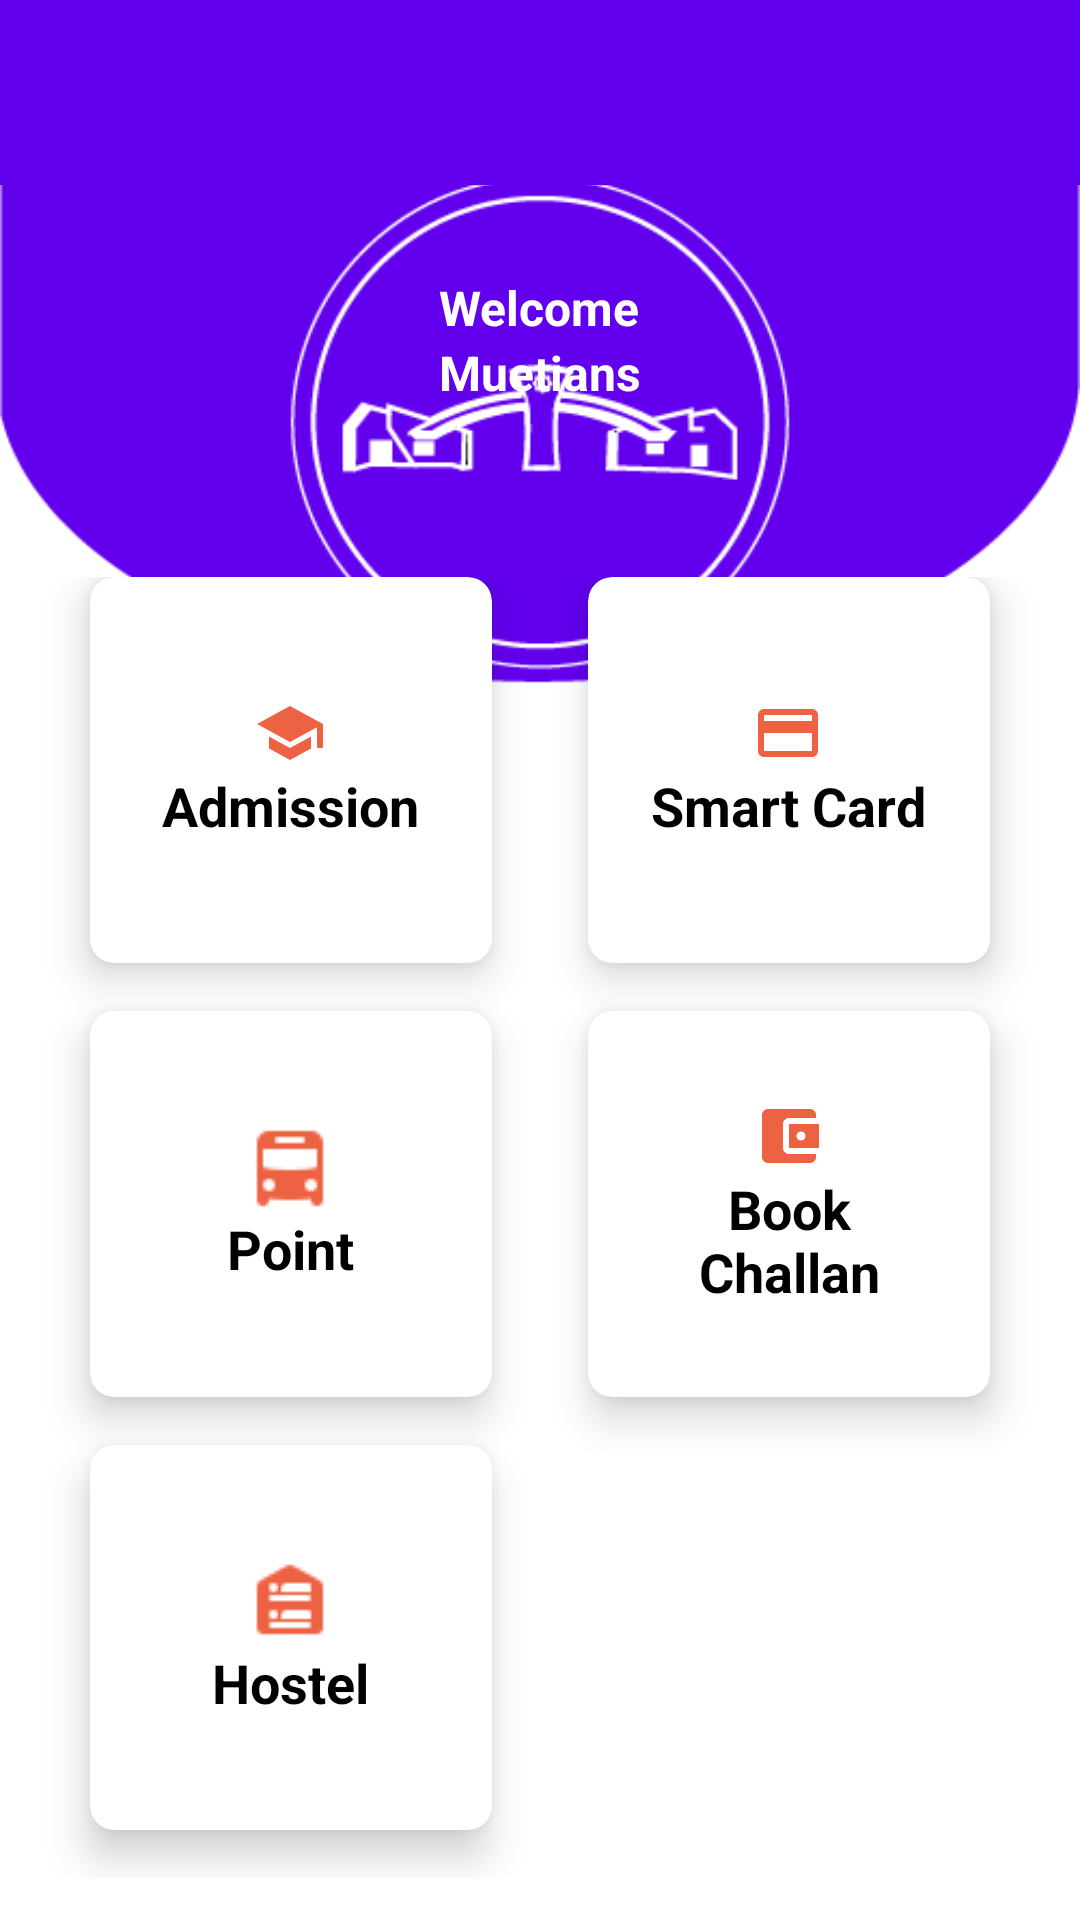

Locate icon controls on the screen. Image size 1080×1920, boxes as (x1, y1, x2, y2).
bus: (256, 1130, 324, 1207)
